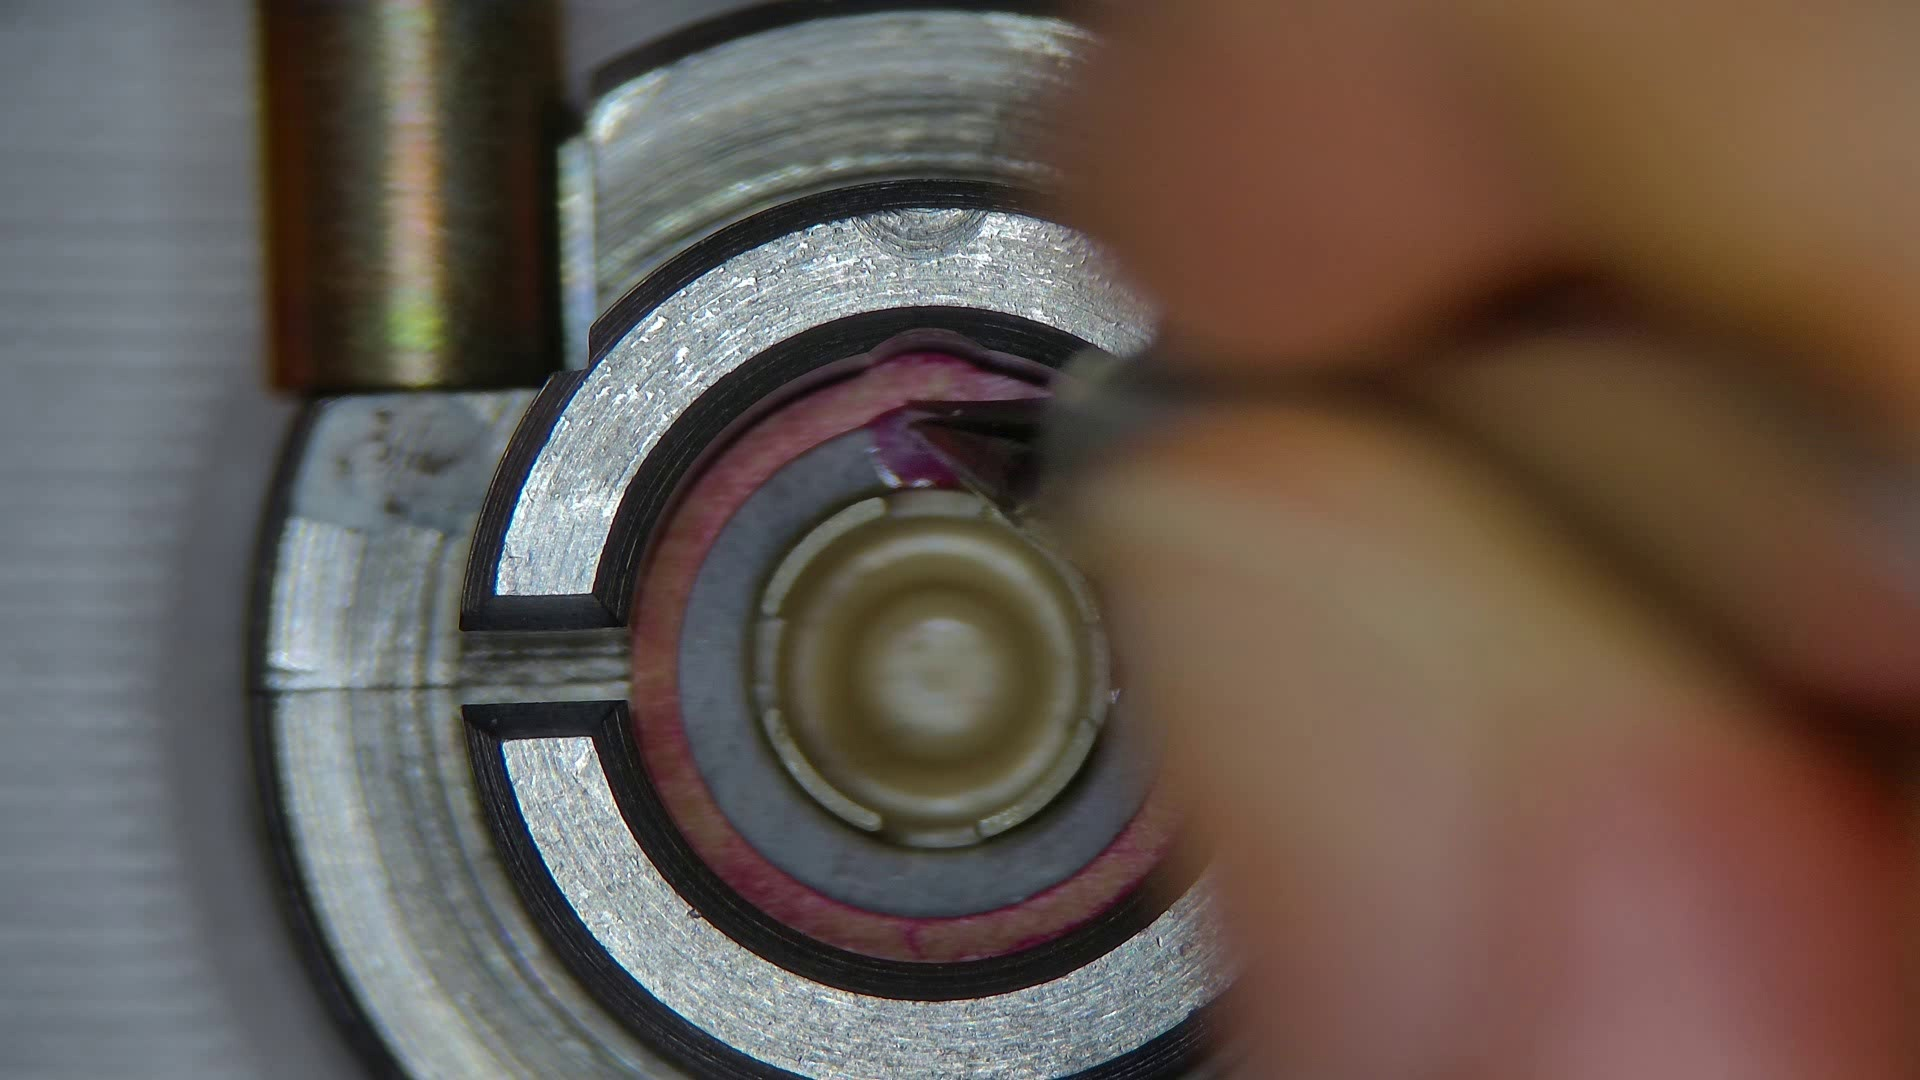GreyOring: (632, 355, 1155, 963)
YellowOring: (681, 414, 1157, 915)
